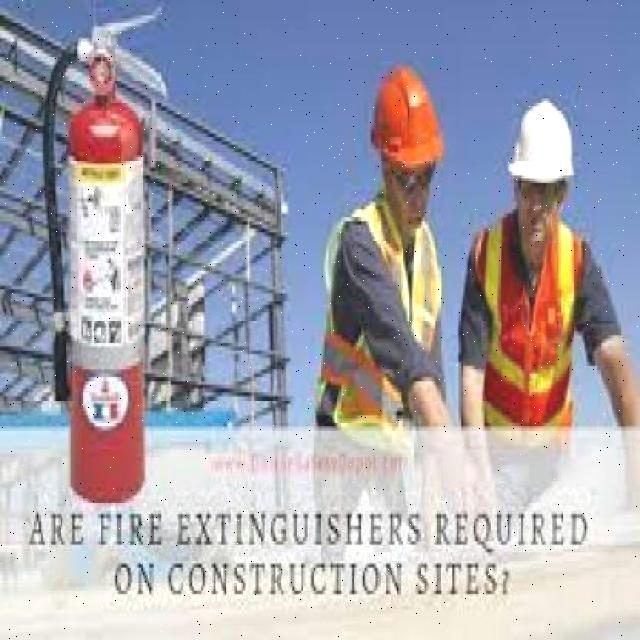Helmet: (370, 54, 444, 174), (507, 97, 575, 194)
Mask: (318, 194, 444, 426), (472, 220, 588, 428)
